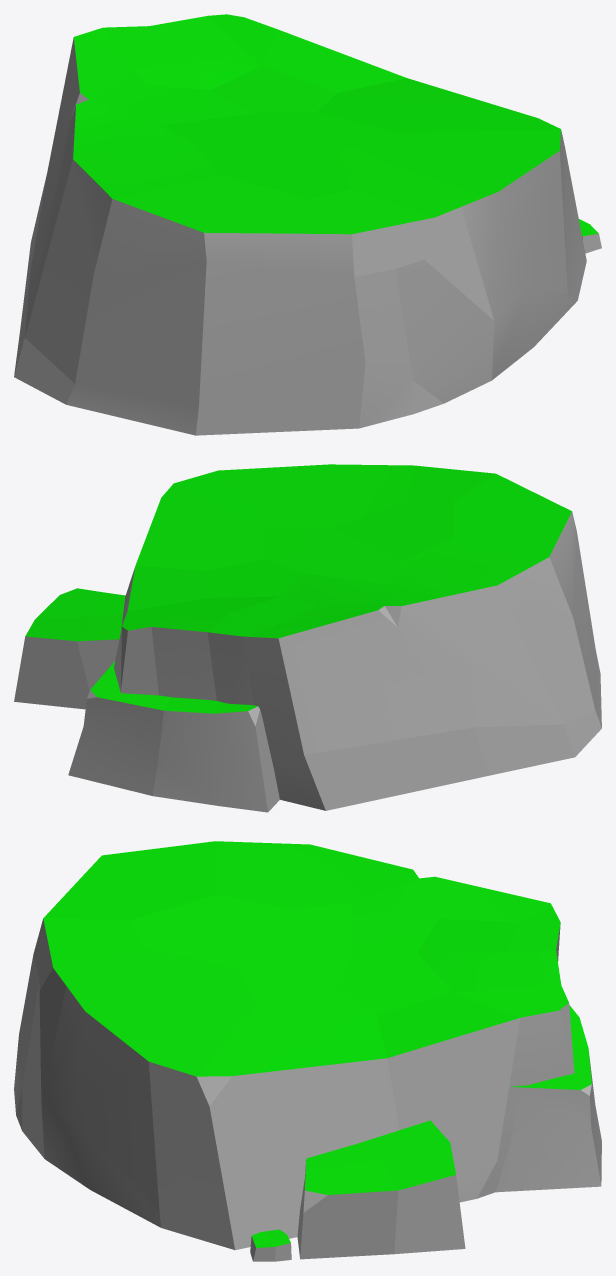
File: rock_beach_medium_A.fbx
3 renders of one model, top to bottom at view 1: azimuth 30°, elevation 25°; view 2: azimuth 150°, elevation 25°; view 3: azimuth 270°, elevation 25°, orthographic. The views are drawn at different scales.
Visible parts, largest first — view 1: rock_beach_medium_A; view 2: rock_beach_medium_A, rock_beach_chunk_A, rock_beach_chunk_B; view 3: rock_beach_medium_A, rock_beach_chunk_B, rock_beach_chunk_A, rock_beach_chunk_C.
Boxes of the visible parts, x1=… form: rock_beach_medium_A: x1=14, y1=14, x2=586, y2=435; rock_beach_medium_A: x1=114, y1=464, x2=601, y2=810; rock_beach_chunk_A: x1=68, y1=661, x2=279, y2=812; rock_beach_chunk_B: x1=14, y1=588, x2=125, y2=709; rock_beach_medium_A: x1=14, y1=841, x2=574, y2=1250; rock_beach_chunk_B: x1=297, y1=1120, x2=465, y2=1259; rock_beach_chunk_A: x1=496, y1=1005, x2=601, y2=1192; rock_beach_chunk_C: x1=250, y1=1229, x2=291, y2=1261.
Size of the model in its own units: 109 by 34.53 by 100.
